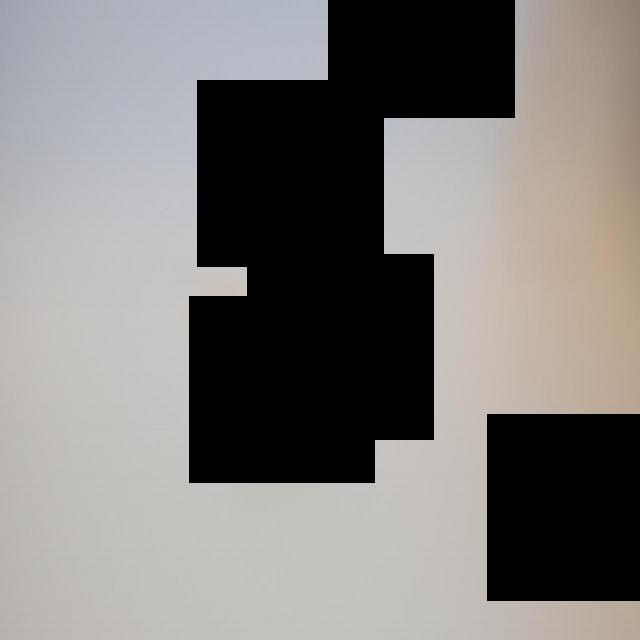apple: (231, 278, 320, 434)
